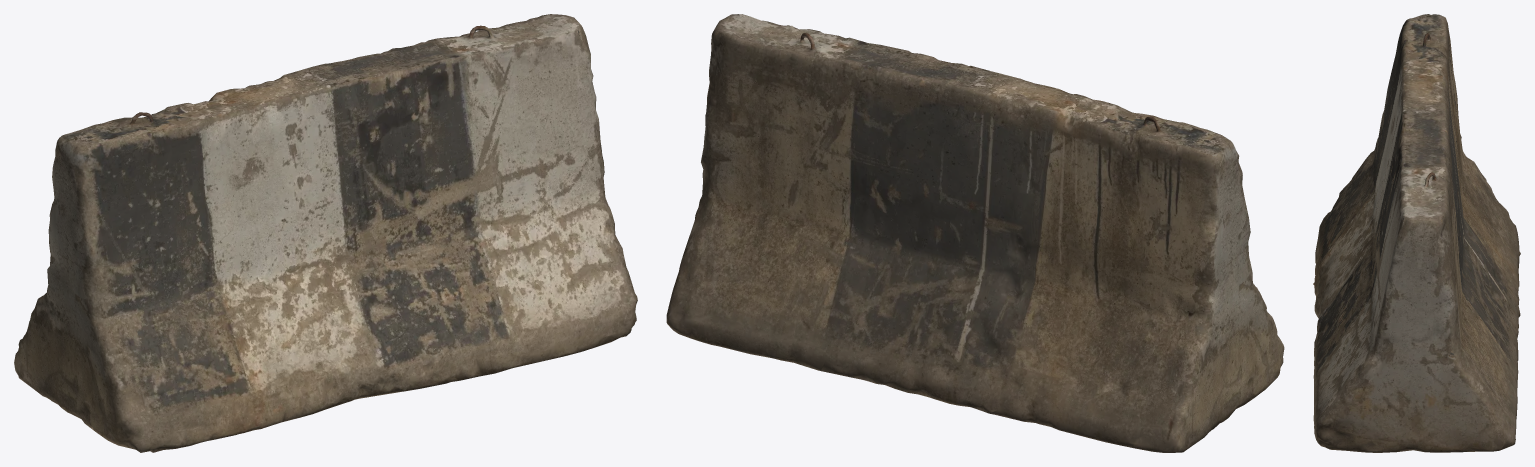
File: concrete_road_barrier.glb
3 views of the same model, side by side, from view 1: azimuth 30°, elevation 25°; view 2: azimuth 150°, elevation 25°; view 3: azimuth 270°, elevation 25° (orthographic). The views are drawn at different scales.
Parts seen in each view (by area): view 1: concrete_road_barrier; view 2: concrete_road_barrier; view 3: concrete_road_barrier.
Boxes of the visible parts, left/top/right/bottom form: concrete_road_barrier: left=14, top=14, right=637, bottom=452; concrete_road_barrier: left=666, top=14, right=1284, bottom=452; concrete_road_barrier: left=1313, top=14, right=1520, bottom=452.
Size of the model in its own units: 1.54 by 0.8307 by 0.6389.
1 material, 1 textured.
